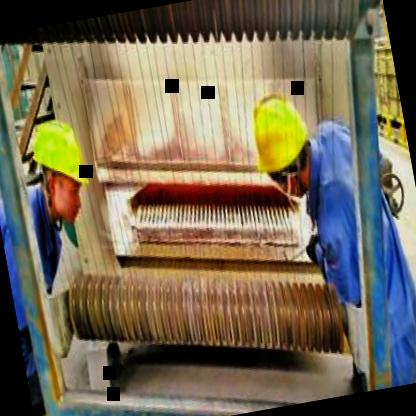helmet: (234, 78, 318, 204), (19, 106, 100, 233)
